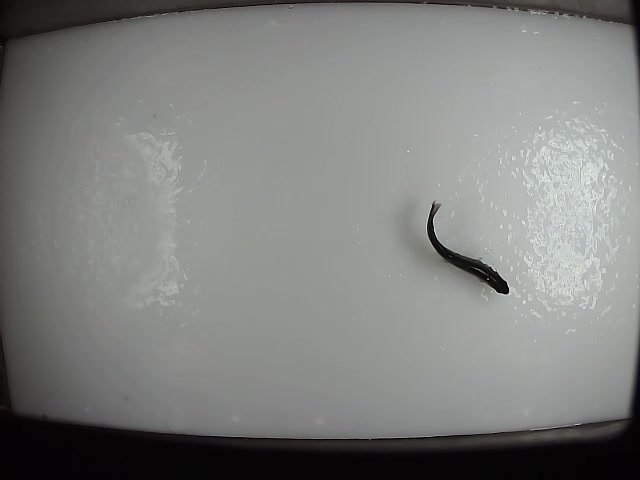fish: (421, 197, 510, 295)
